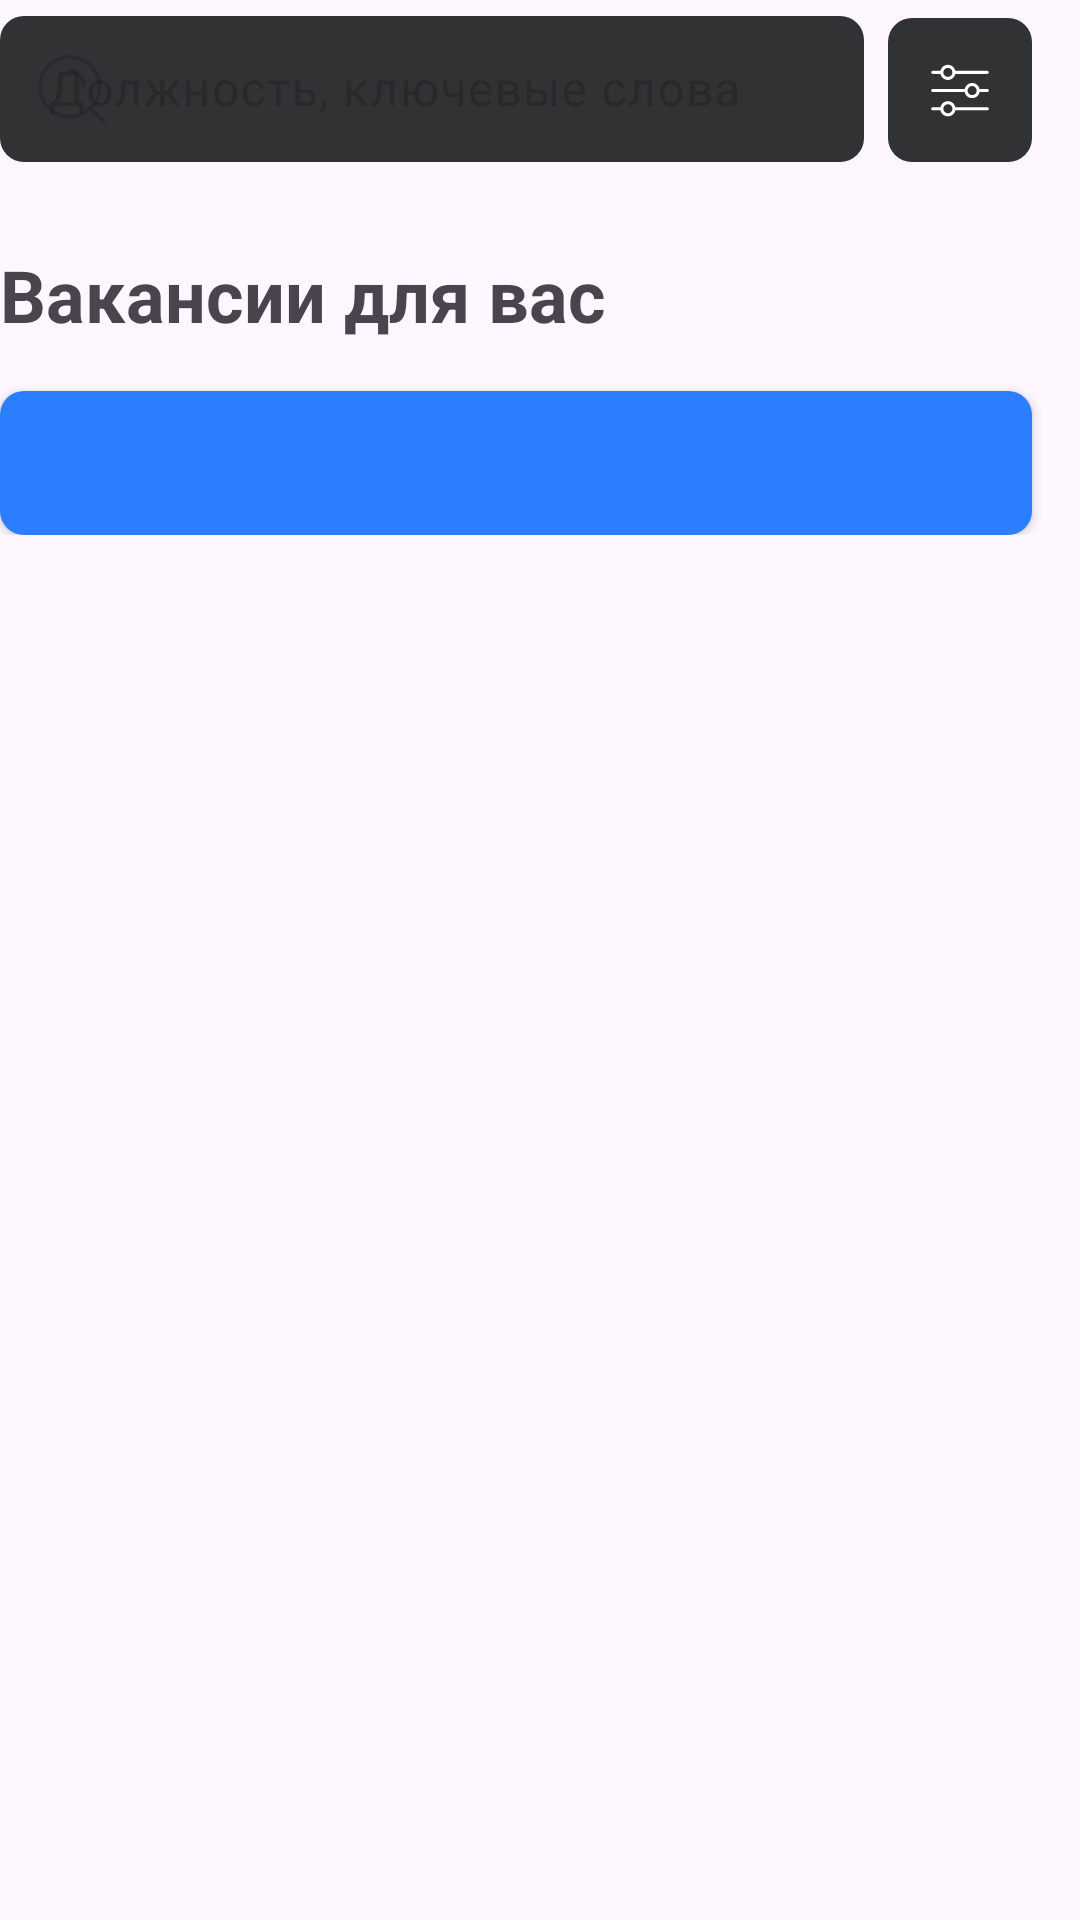

Named icons in this screenshot (1080x1920) and their centers, point (x, y):
filter: point (960, 90)
